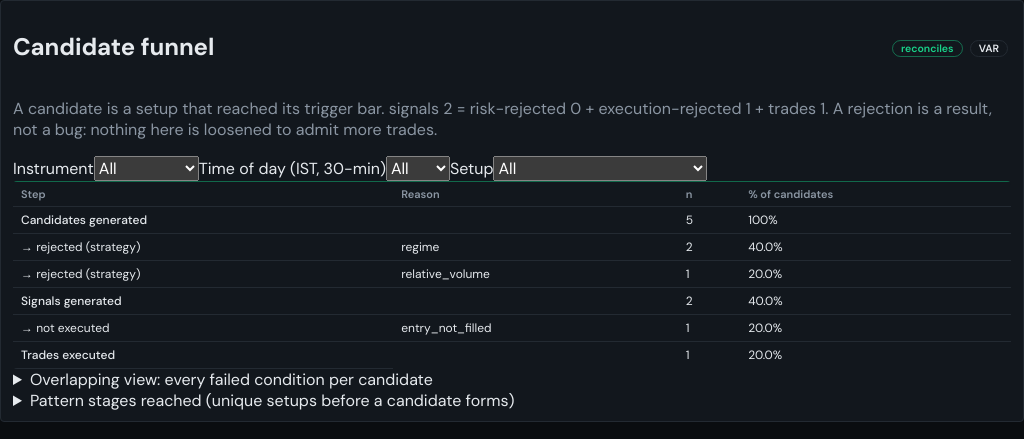
Test case: VarFunnel › shows the reconciled funnel and recomputes it when filtered by instrument
Expected: the text "reconciles" is shown, [892,40,962,57]
Expected: the text "Candidates generated" shows "5", [686,212,693,228]
Select "BANKNIFTY" in the dropdown labelled "Instrument" at (146, 168), box [94,156,199,181]
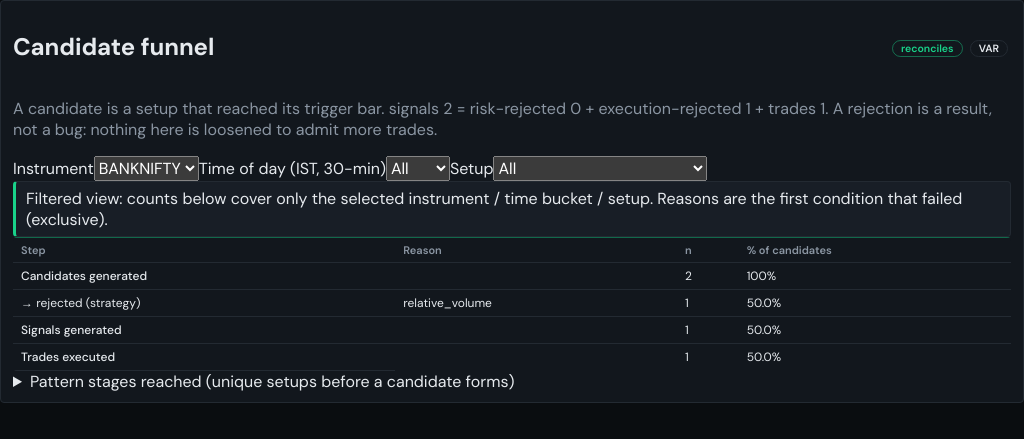
Now the text "Candidates generated" shows "2", box [685,268,692,284]
Now the text "Filtered view" is shown, box [26,188,962,230]
Now the text "regime" is gone
